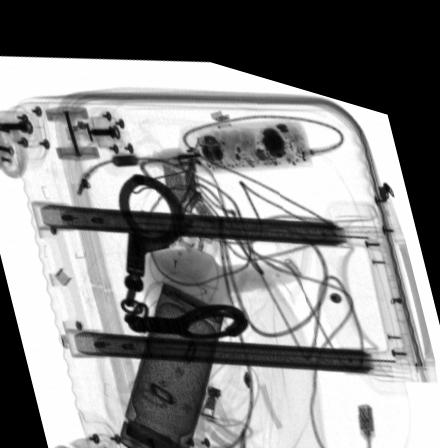HandCuffs: (116, 164, 250, 327)
